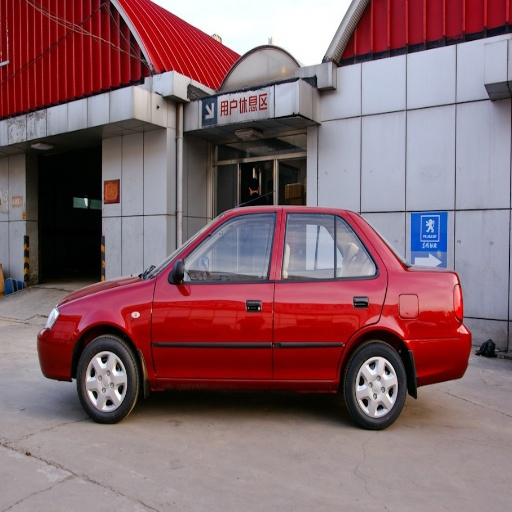back_left_door: (274, 211, 386, 380)
front_left_door: (152, 212, 279, 376)
